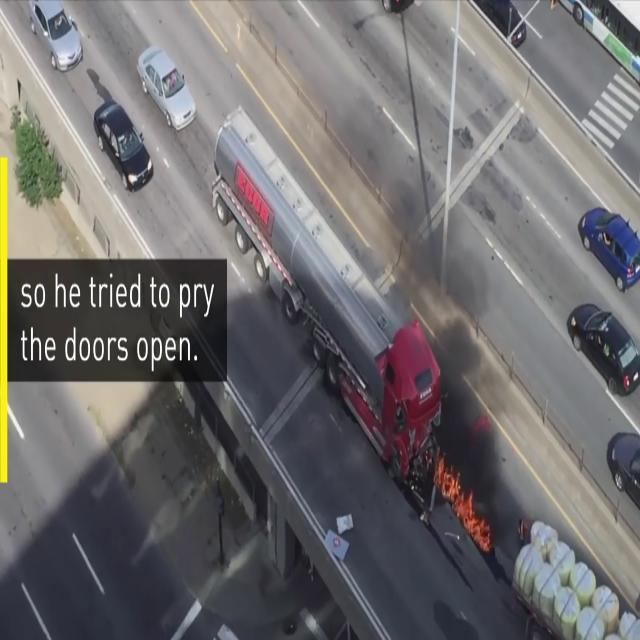Fire: (437, 452, 489, 548)
Smoke: (372, 137, 502, 490)
